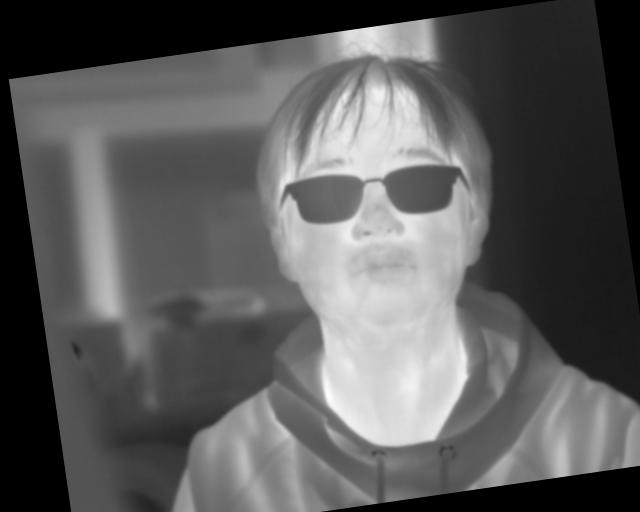face: (238, 33, 518, 349)
